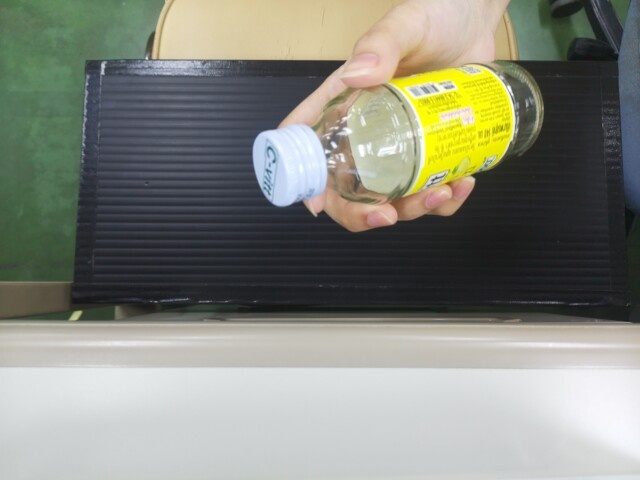glass_bottle: (246, 70, 537, 193)
